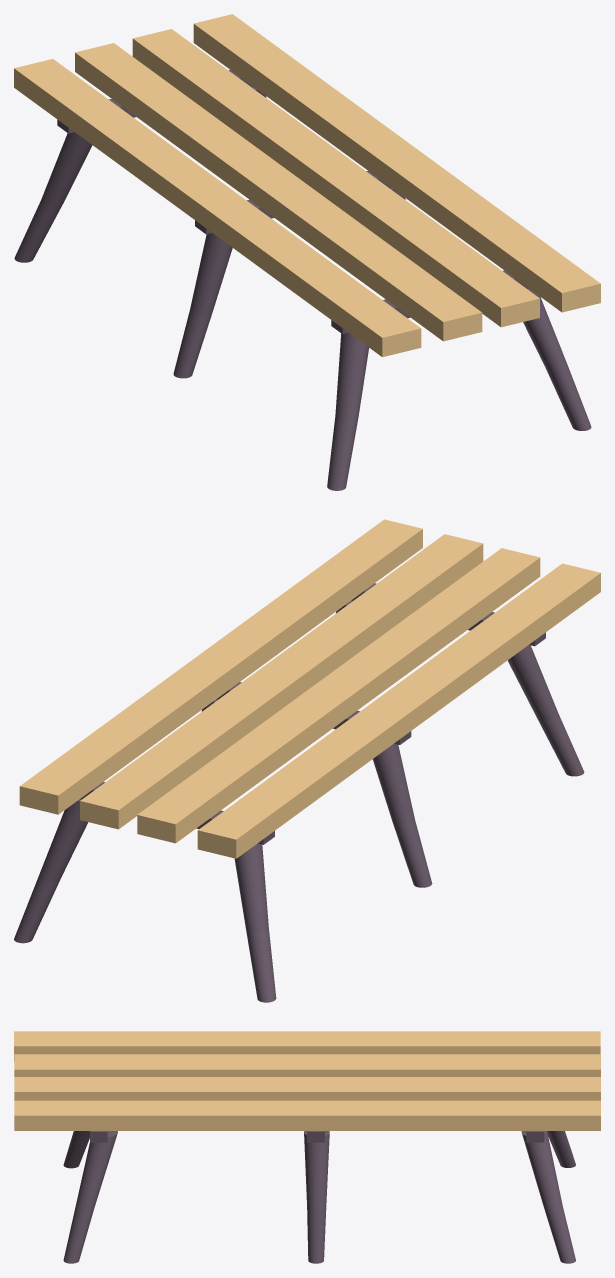
The model's file is Kursi2v.fbx.
The picture shows the model from 3 angles, top to bottom: view 1: azimuth 30°, elevation 25°; view 2: azimuth 150°, elevation 25°; view 3: azimuth 270°, elevation 25°; orthographic projection. The views are drawn at different scales.
Parts seen in each view (by area): view 1: Cube, Cylinder; view 2: Cube, Cylinder; view 3: Cube, Cylinder.
Boxes of the visible parts, left/top/right/bottom form: Cube: left=14, top=14, right=600, bottom=357; Cylinder: left=14, top=87, right=591, bottom=490; Cube: left=19, top=519, right=600, bottom=858; Cylinder: left=14, top=600, right=584, bottom=1002; Cube: left=14, top=1031, right=600, bottom=1142; Cylinder: left=63, top=1131, right=575, bottom=1263.
Bounding box in the file's own units: 393 × 249 × 958.
